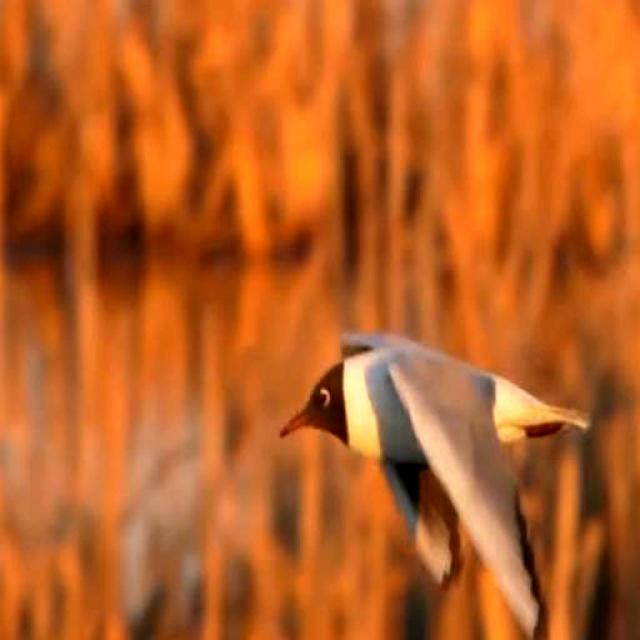airplane: (278, 318, 591, 639)
